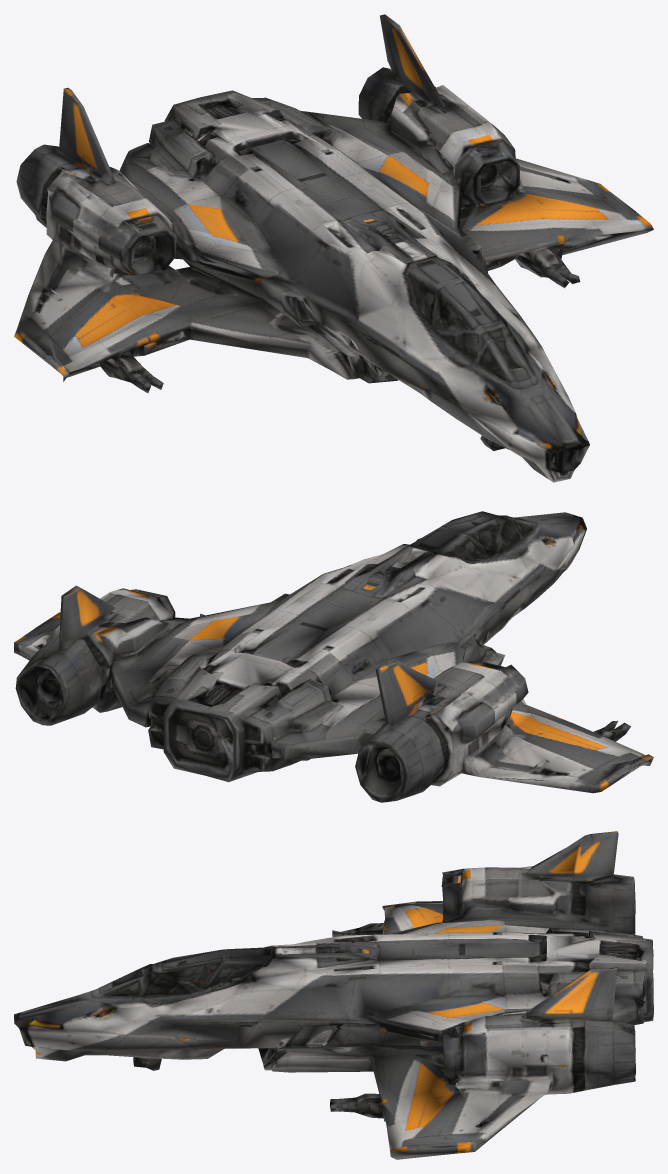
Rendered from tripo-rebaked-3000.glb.
3 views of the same model, one above another, from view 1: azimuth 30°, elevation 25°; view 2: azimuth 150°, elevation 25°; view 3: azimuth 270°, elevation 25° (orthographic). The views are drawn at different scales.
Parts seen in each view (by area): view 1: Low; view 2: Low; view 3: Low.
Boxes of the visible parts, <box> form: Low: <box>14,14,653,482</box>; Low: <box>14,511,653,802</box>; Low: <box>14,831,653,1159</box>.
Size of the model in its own units: 0.9019 by 0.2876 by 0.9783.
1 material, 1 textured.
